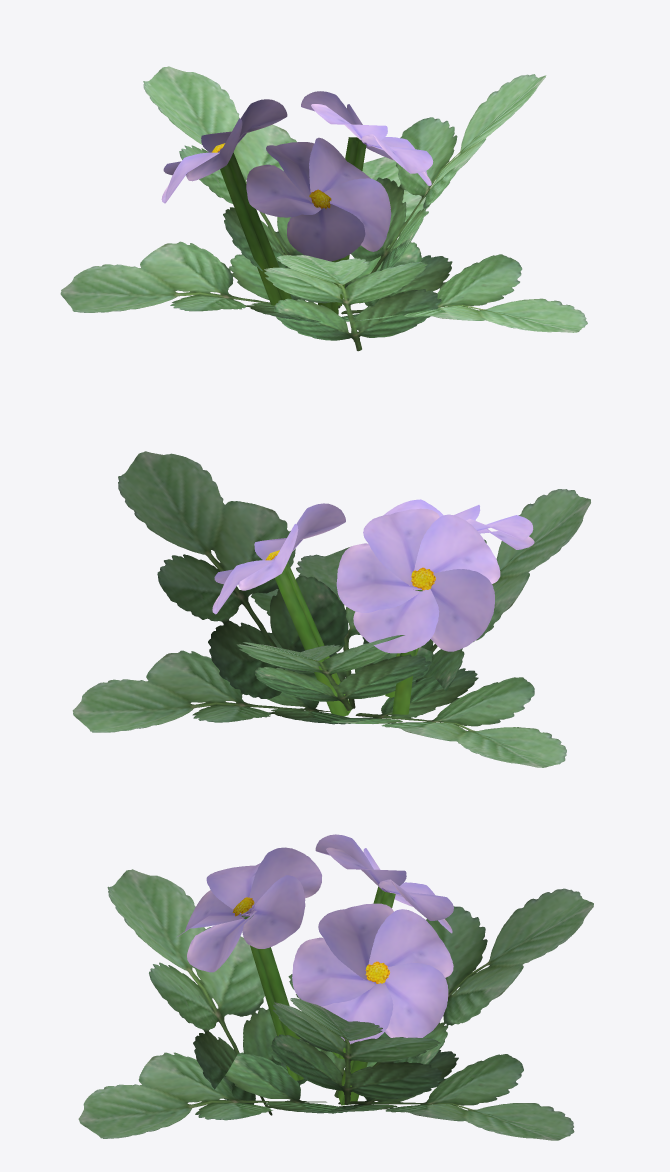
The model's file is indigof2.obj.
3 views of the same model, one above another, from view 1: azimuth 30°, elevation 25°; view 2: azimuth 150°, elevation 25°; view 3: azimuth 270°, elevation 25° (orthographic). The views are drawn at different scales.
Parts seen in each view (by area): view 1: indigof02; view 2: indigof02; view 3: indigof02.
Part boxes in pixels (box(x1,y1,x2,y2)): indigof02: box(60, 66, 587, 351); indigof02: box(72, 451, 590, 767); indigof02: box(78, 834, 593, 1140).
Size of the model in its own units: 33.46 by 15.92 by 34.43.
2 materials, 2 textured.
